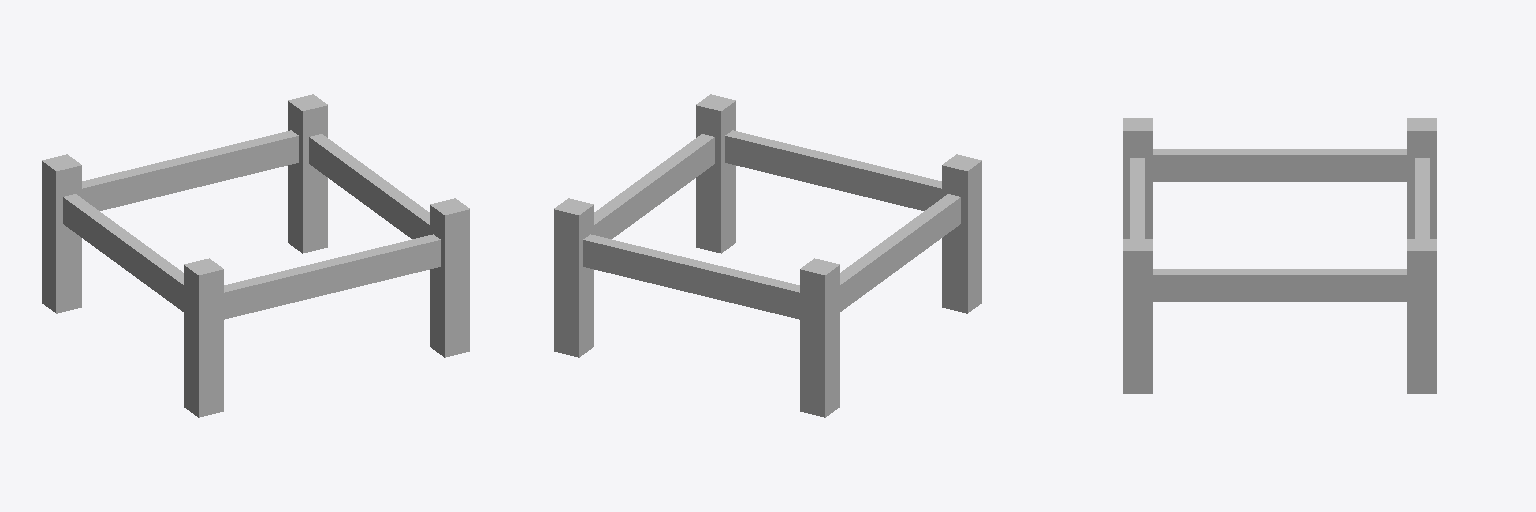
Rendered from snow_woodStructure.obj.
3 views of the same model, side by side, from view 1: azimuth 30°, elevation 25°; view 2: azimuth 150°, elevation 25°; view 3: azimuth 270°, elevation 25° (orthographic).
Parts seen in each view (by area): view 1: snow_woodStructure; view 2: snow_woodStructure; view 3: snow_woodStructure.
Boxes of the visible parts, x1=… form: snow_woodStructure: x1=42, y1=94, x2=469, y2=417; snow_woodStructure: x1=554, y1=94, x2=981, y2=417; snow_woodStructure: x1=1123, y1=118, x2=1436, y2=393.
Bounding box in the file's own units: 1 × 0.5 × 1.